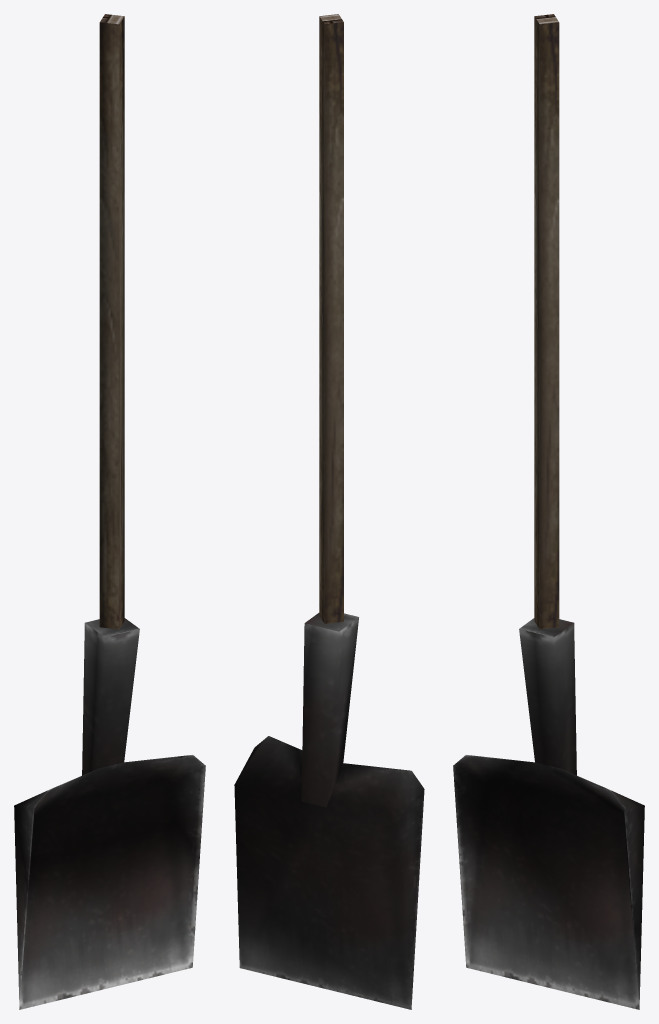
The model's file is GY_chanzi.fbx.
3 renders of one model, left to right at view 1: azimuth 30°, elevation 25°; view 2: azimuth 150°, elevation 25°; view 3: azimuth 330°, elevation 25°, orthographic.
Visible parts, largest first — view 1: GY_chanzi; view 2: GY_chanzi; view 3: GY_chanzi.
Part boxes in pixels (<box>): GY_chanzi: <box>14,14,205,1009</box>; GY_chanzi: <box>234,14,424,1009</box>; GY_chanzi: <box>453,14,644,1009</box>.
Size of the model in its own units: 41.17 by 221 by 11.59.
